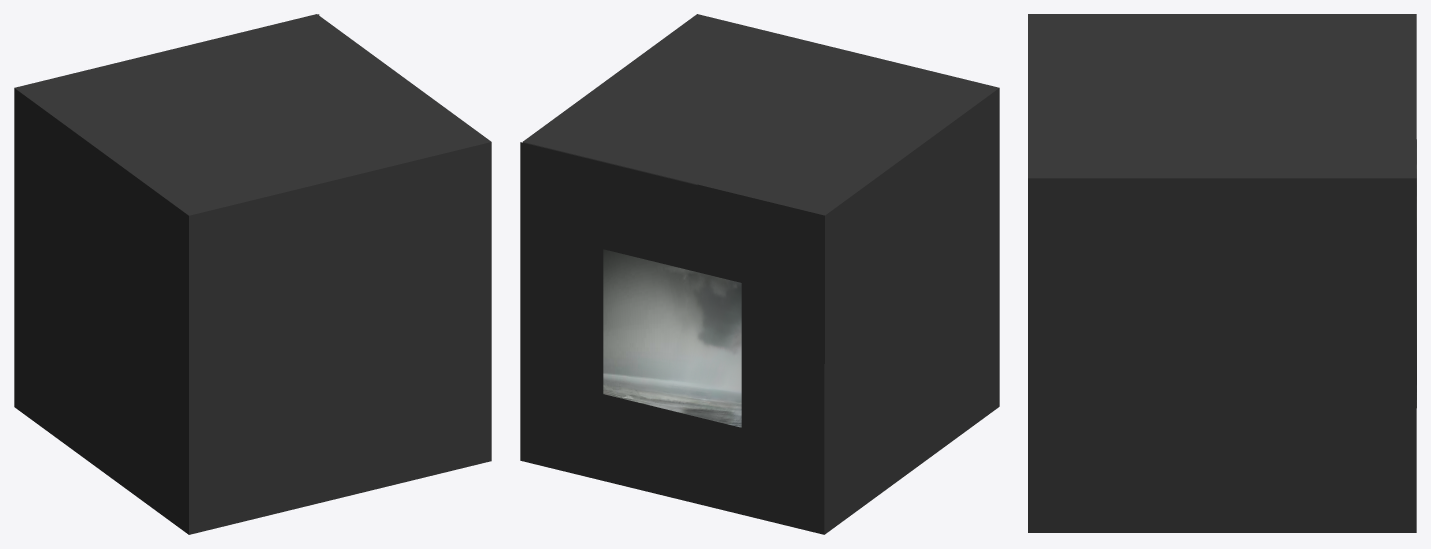
File: BoxMask_Building.fbx
The picture shows the model from 3 angles, left to right: view 1: azimuth 30°, elevation 25°; view 2: azimuth 150°, elevation 25°; view 3: azimuth 270°, elevation 25°; orthographic projection. The views are drawn at different scales.
Visible parts, largest first — view 1: Cube.001; view 2: Cube.001; view 3: Cube.001.
Part boxes in pixels (<box>): Cube.001: <box>14,14,491,534</box>; Cube.001: <box>520,14,999,534</box>; Cube.001: <box>1028,14,1416,532</box>.
Size of the model in its own units: 274 by 275 by 272.
